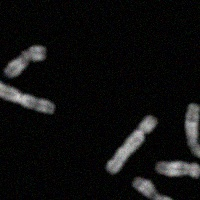chromosome: (106, 115, 157, 174), (0, 73, 55, 116), (5, 43, 46, 76), (134, 176, 179, 200), (186, 101, 200, 158), (158, 160, 200, 179)
